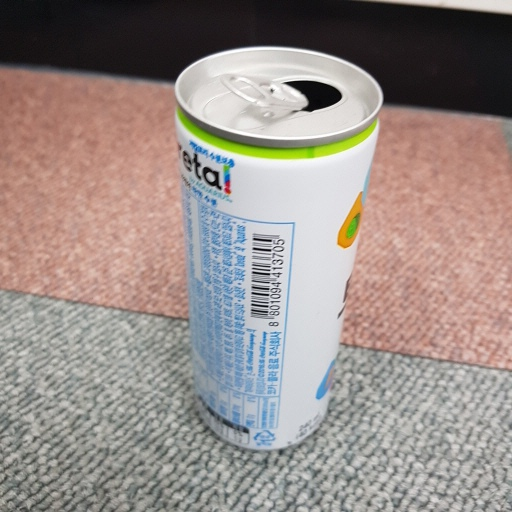Metal_0: (170, 40, 384, 458)
